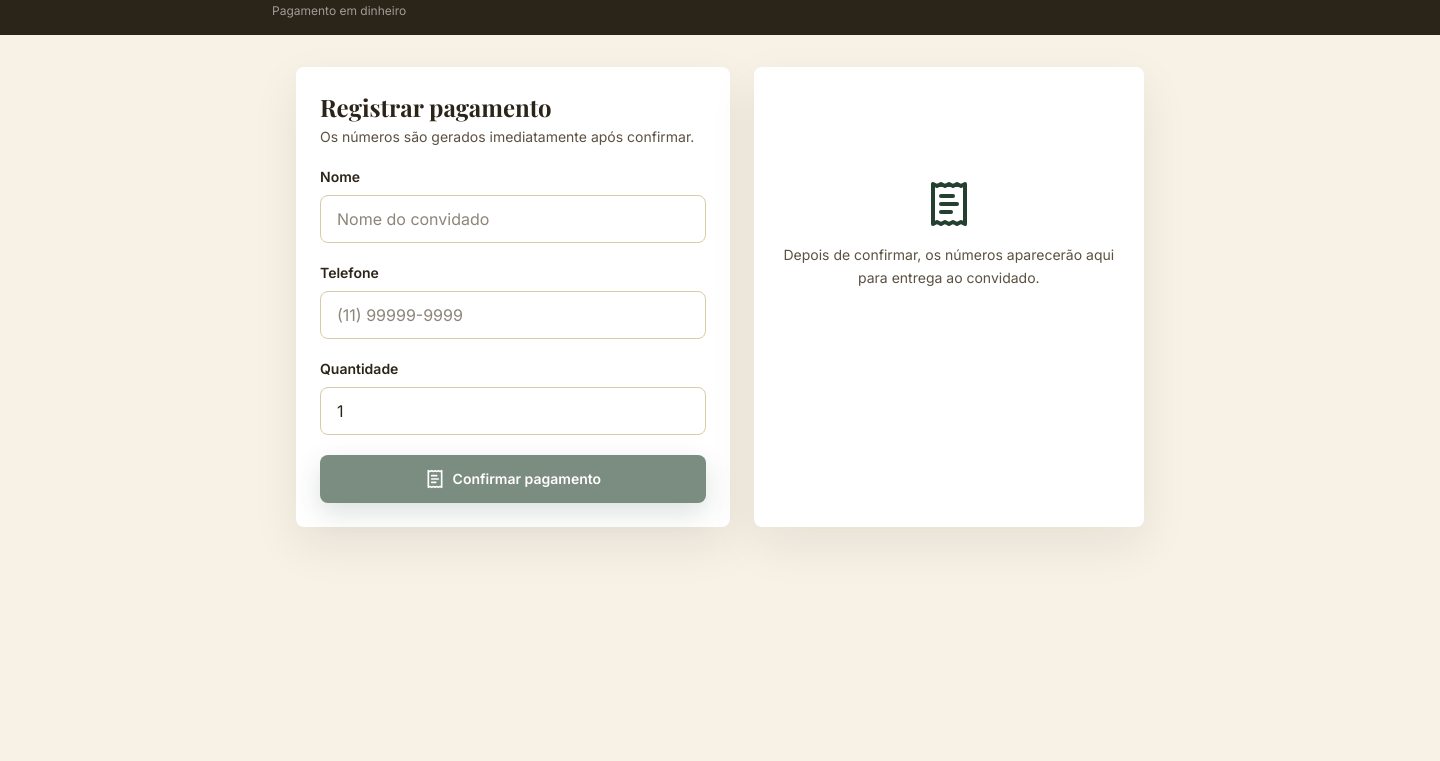
Test: App › registers an admin cash payment and shows pdf link
In the field labelled "Nome": [513, 219] box [320,195,706,243], type "Cash Guest"
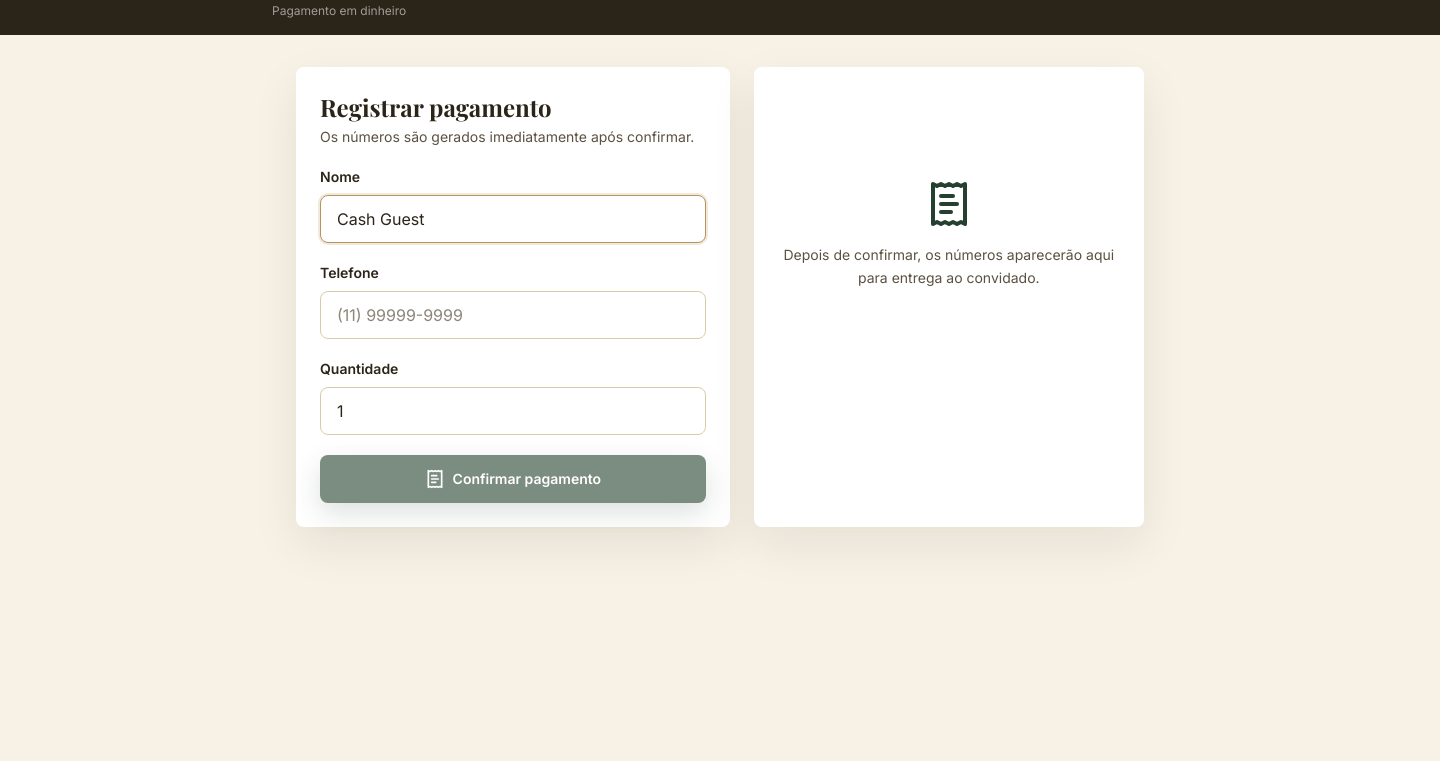
In the field labelled "Telefone": [513, 315] box [320,291,706,339], type "11999999999"
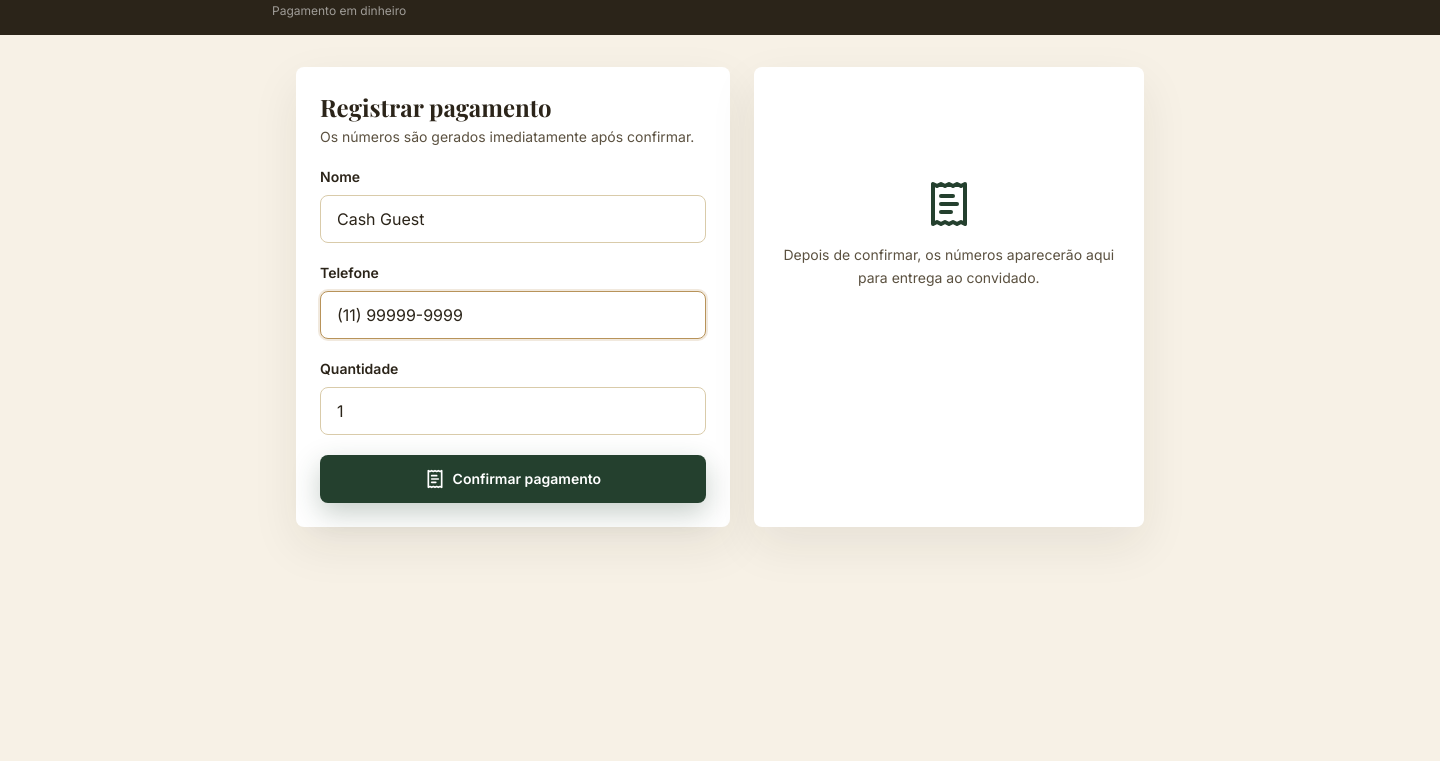
expect the field labelled "Telefone" holds "(11) 99999-9999": met, box [320,291,706,339]
Replace the text in the number field labelled "Quantidade" with "10": [513, 411] box [320,387,706,435]
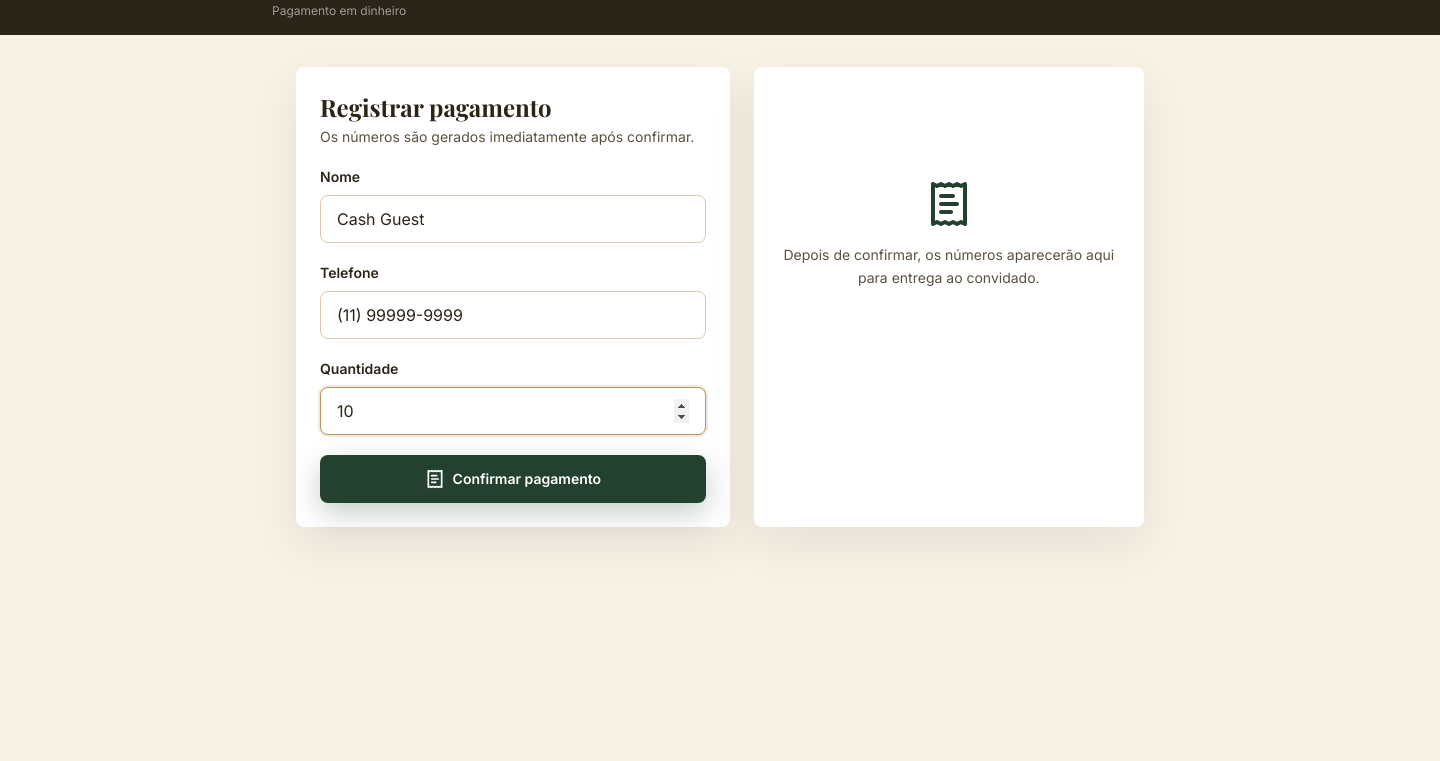
Click the button "Confirmar pagamento": [513, 479] box [320,455,706,503]
(page scrolled)
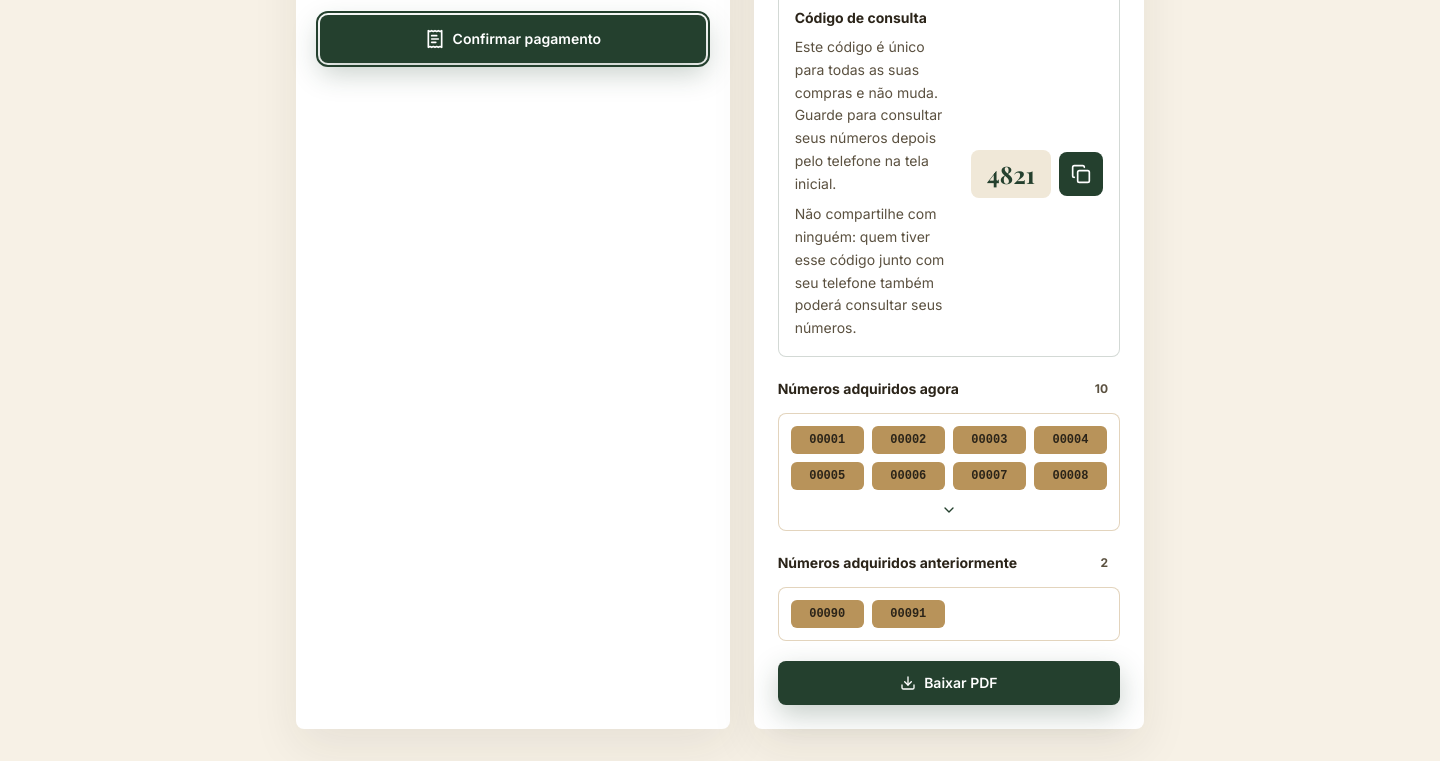
expect the text "00008" is shown: met, box [1034,462,1107,490]
expect the text "00090" is shown: met, box [791,600,864,628]
expect the text "00091" is shown: met, box [872,600,945,628]
Click the button "00001 00002 00003 00004 00005 00006 00007 00008": [827, 440] box [778,413,1120,531]
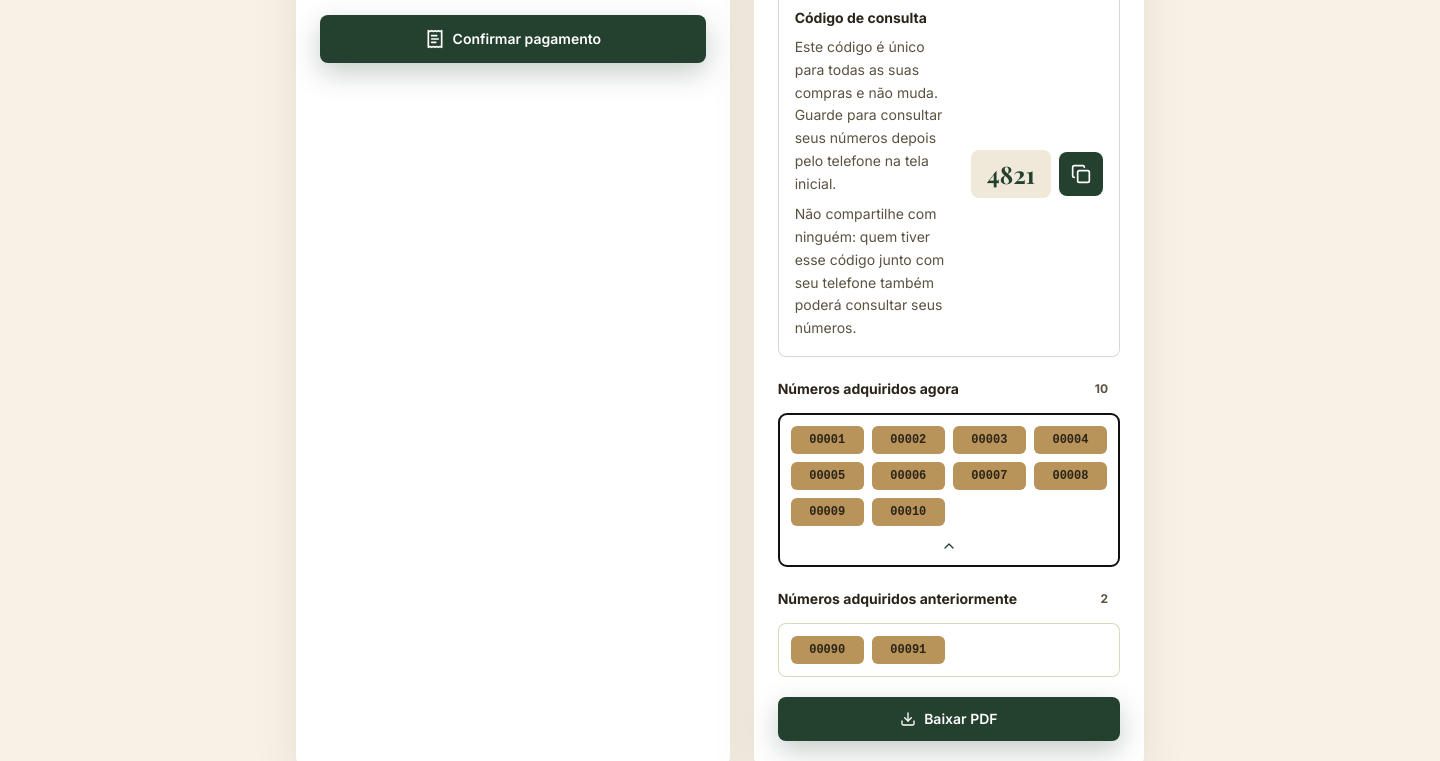
expect the text "00009" is shown: met, box [791,498,864,526]
expect the text "00010" is shown: met, box [872,498,945,526]
